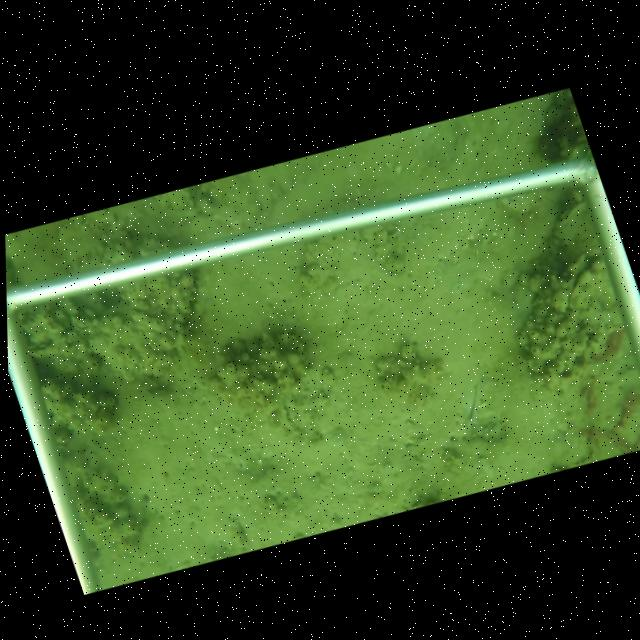Oyster-Indeterminate: (545, 201, 588, 256)
Oyster-Open: (558, 254, 604, 313)
